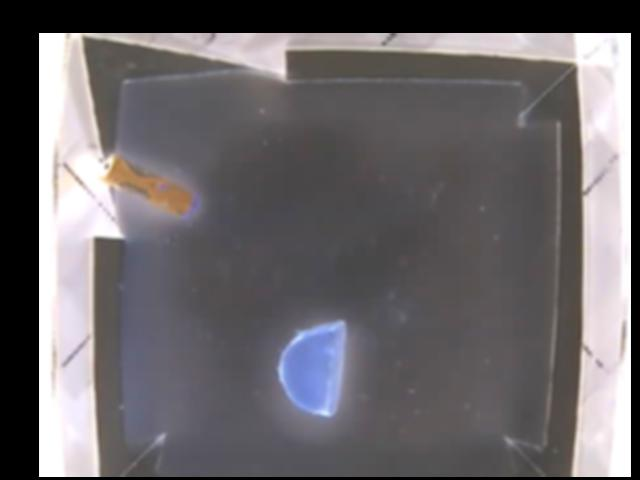Battery: (101, 152, 201, 218)
Potato: (275, 320, 348, 413)
